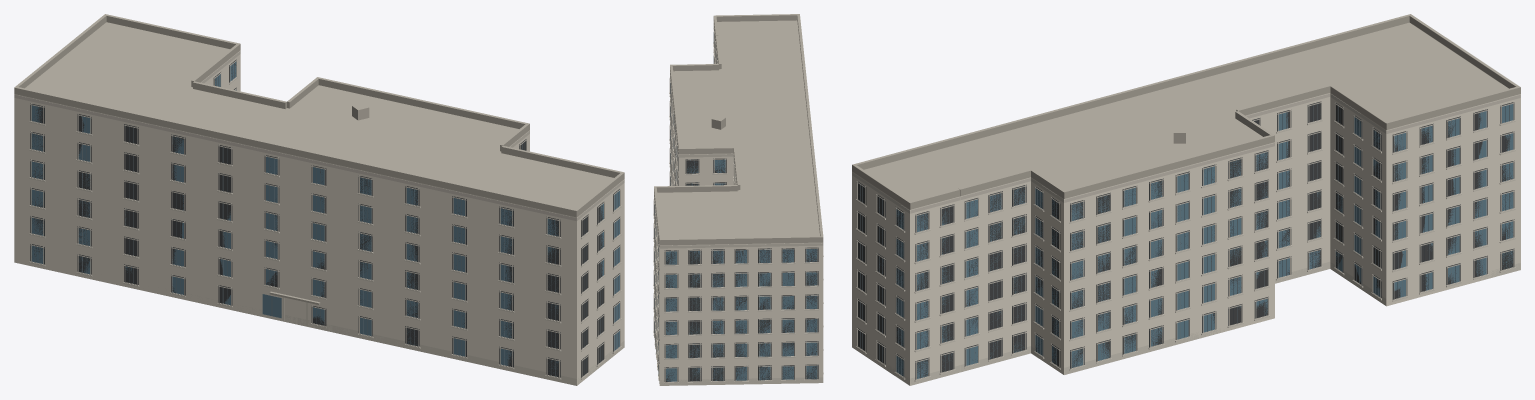
File: cop_equipamento_especial_04__way_488128349.fbx
The picture shows the model from 3 angles, left to right: view 1: azimuth 30°, elevation 25°; view 2: azimuth 150°, elevation 25°; view 3: azimuth 270°, elevation 25°; orthographic projection. The views are drawn at different scales.
Parts seen in each view (by area): view 1: cop_equipamento_especial_04__way_488128349_wall, cop_equipamento_especial_04__way_488128349_roof, cop_equipamento_especial_04__way_488128349_shadow, cop_equipamento_especial_04__way_488128349_glass, cop_equipamento_especial_04__way_488128349_trim, cop_equipamento_especial_04__way_488128349_stone, cop_equipamento_especial_04__way_488128349_metal; view 2: cop_equipamento_especial_04__way_488128349_roof, cop_equipamento_especial_04__way_488128349_wall, cop_equipamento_especial_04__way_488128349_shadow, cop_equipamento_especial_04__way_488128349_glass, cop_equipamento_especial_04__way_488128349_trim, cop_equipamento_especial_04__way_488128349_stone, cop_equipamento_especial_04__way_488128349_metal; view 3: cop_equipamento_especial_04__way_488128349_wall, cop_equipamento_especial_04__way_488128349_roof, cop_equipamento_especial_04__way_488128349_shadow, cop_equipamento_especial_04__way_488128349_glass, cop_equipamento_especial_04__way_488128349_trim, cop_equipamento_especial_04__way_488128349_stone, cop_equipamento_especial_04__way_488128349_metal.
Part boxes in pixels (<box>): cop_equipamento_especial_04__way_488128349_wall: <box>14,50,624,385</box>; cop_equipamento_especial_04__way_488128349_roof: <box>14,14,624,304</box>; cop_equipamento_especial_04__way_488128349_shadow: <box>30,59,619,377</box>; cop_equipamento_especial_04__way_488128349_glass: <box>31,61,619,376</box>; cop_equipamento_especial_04__way_488128349_trim: <box>14,51,624,378</box>; cop_equipamento_especial_04__way_488128349_stone: <box>29,77,624,385</box>; cop_equipamento_especial_04__way_488128349_metal: <box>35,63,618,376</box>; cop_equipamento_especial_04__way_488128349_roof: <box>654,14,823,245</box>; cop_equipamento_especial_04__way_488128349_wall: <box>654,25,823,385</box>; cop_equipamento_especial_04__way_488128349_shadow: <box>654,29,818,381</box>; cop_equipamento_especial_04__way_488128349_glass: <box>666,159,817,381</box>; cop_equipamento_especial_04__way_488128349_trim: <box>653,22,823,382</box>; cop_equipamento_especial_04__way_488128349_stone: <box>653,43,823,385</box>; cop_equipamento_especial_04__way_488128349_metal: <box>654,32,809,381</box>; cop_equipamento_especial_04__way_488128349_wall: <box>852,93,1520,385</box>; cop_equipamento_especial_04__way_488128349_roof: <box>852,14,1520,209</box>; cop_equipamento_especial_04__way_488128349_shadow: <box>857,101,1514,379</box>; cop_equipamento_especial_04__way_488128349_glass: <box>859,104,1513,378</box>; cop_equipamento_especial_04__way_488128349_trim: <box>852,93,1520,379</box>; cop_equipamento_especial_04__way_488128349_stone: <box>856,119,1520,385</box>; cop_equipamento_especial_04__way_488128349_metal: <box>860,104,1509,378</box>.
Size of the model in its own units: 4148 by 1913 by 6195.
